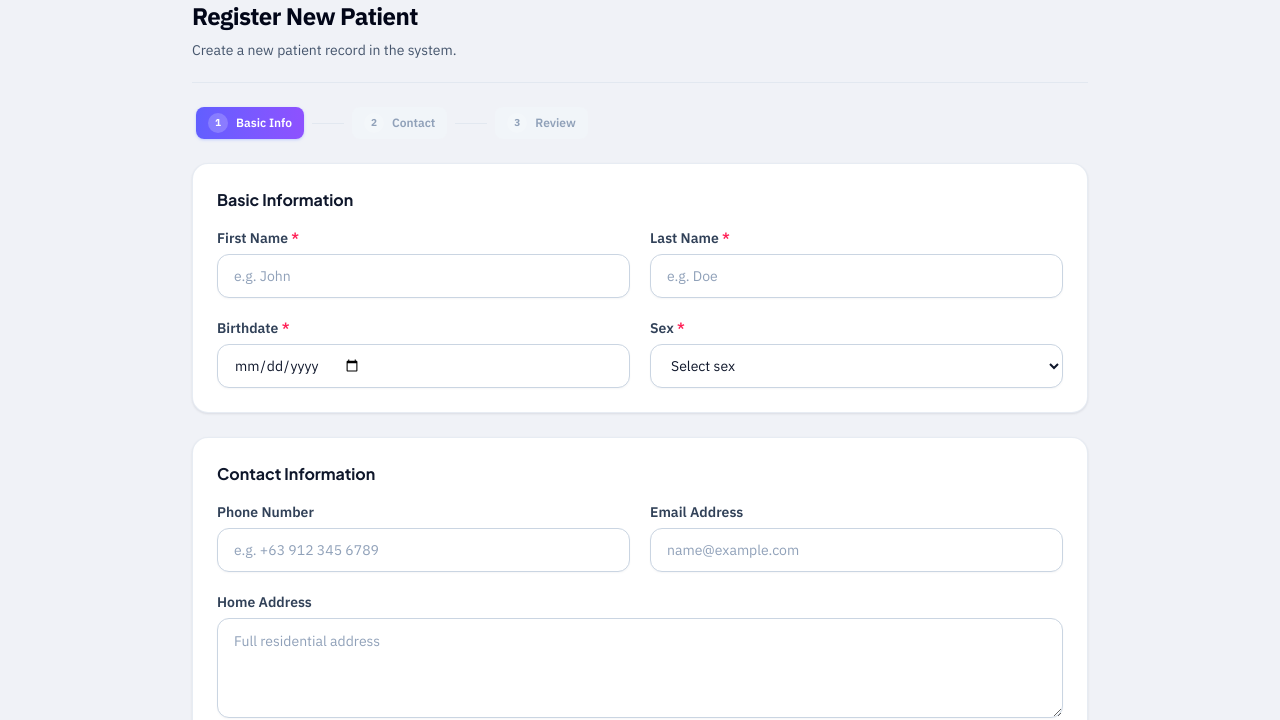
it: RegisterPatient Honesty Tests › shows error message on API failure
Type "John" into the field named "First Name" at (424, 276), box top-left (217, 254), bottom-right (630, 298)
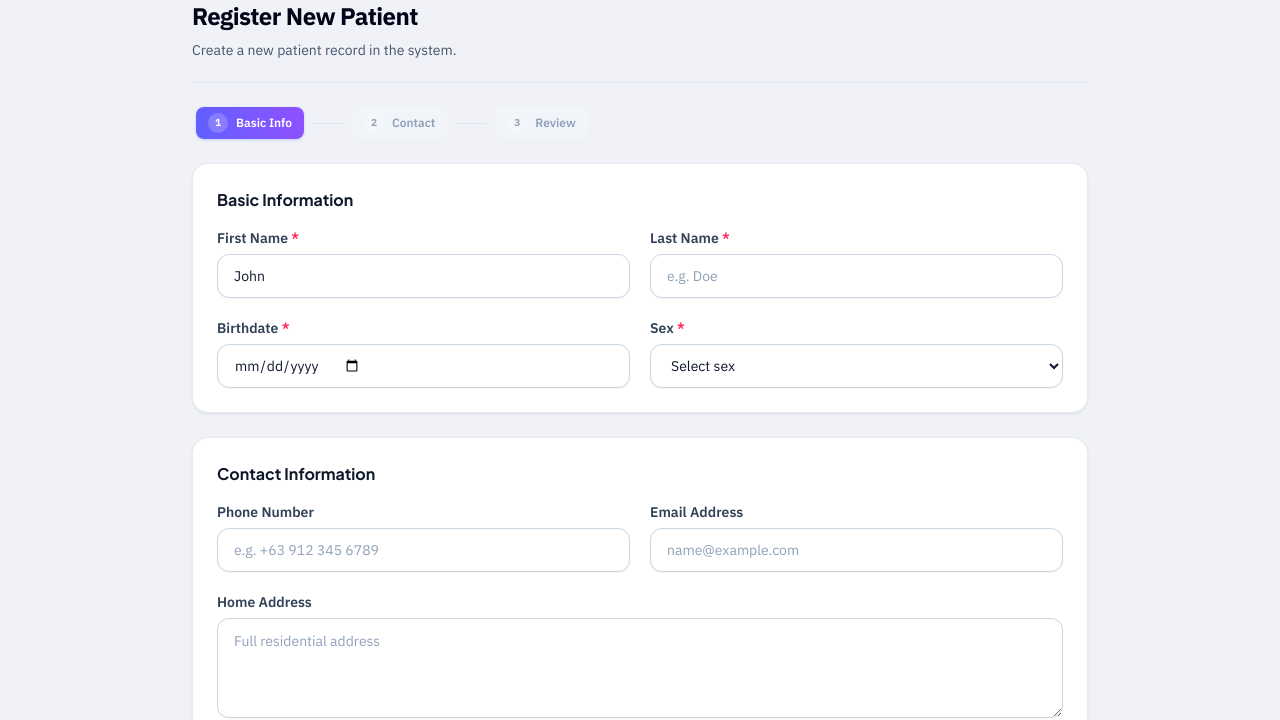
Type "Doe" into the field named "Last Name" at (856, 276), box top-left (650, 254), bottom-right (1063, 298)
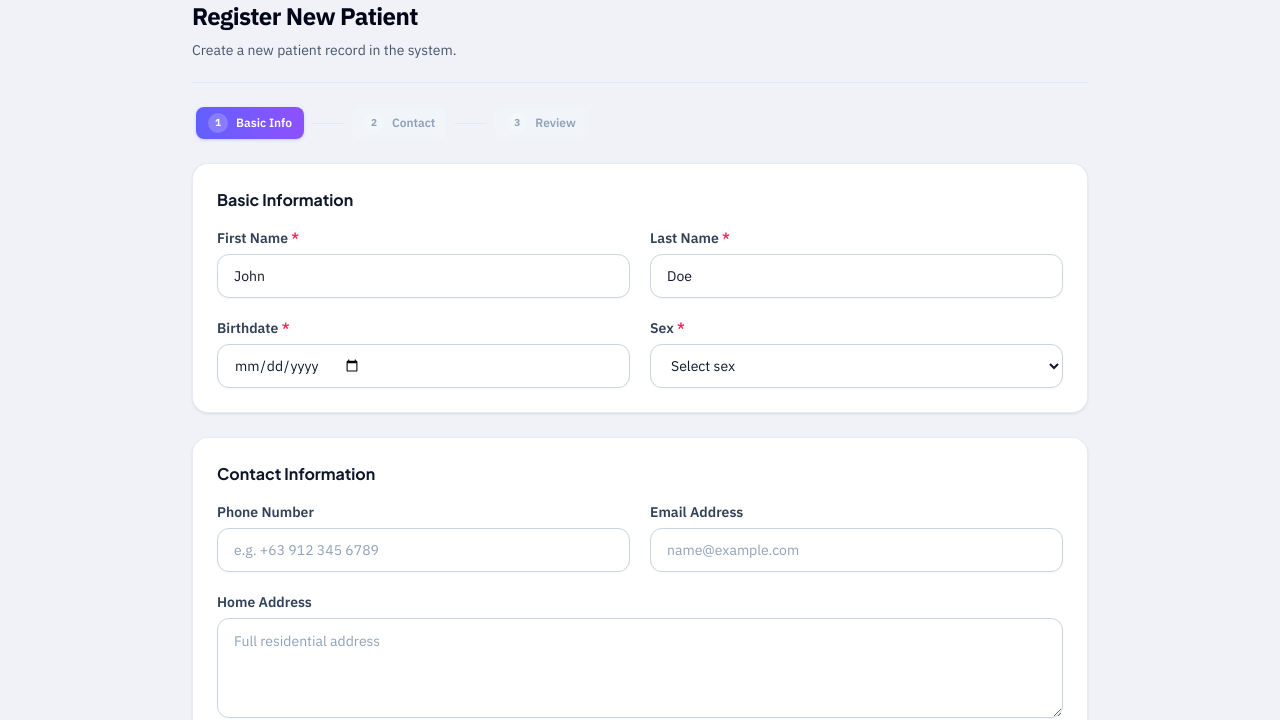
Type "1990-01-01" into the date field named "Birthdate" at (424, 366), box top-left (217, 344), bottom-right (630, 388)
(page scrolled)
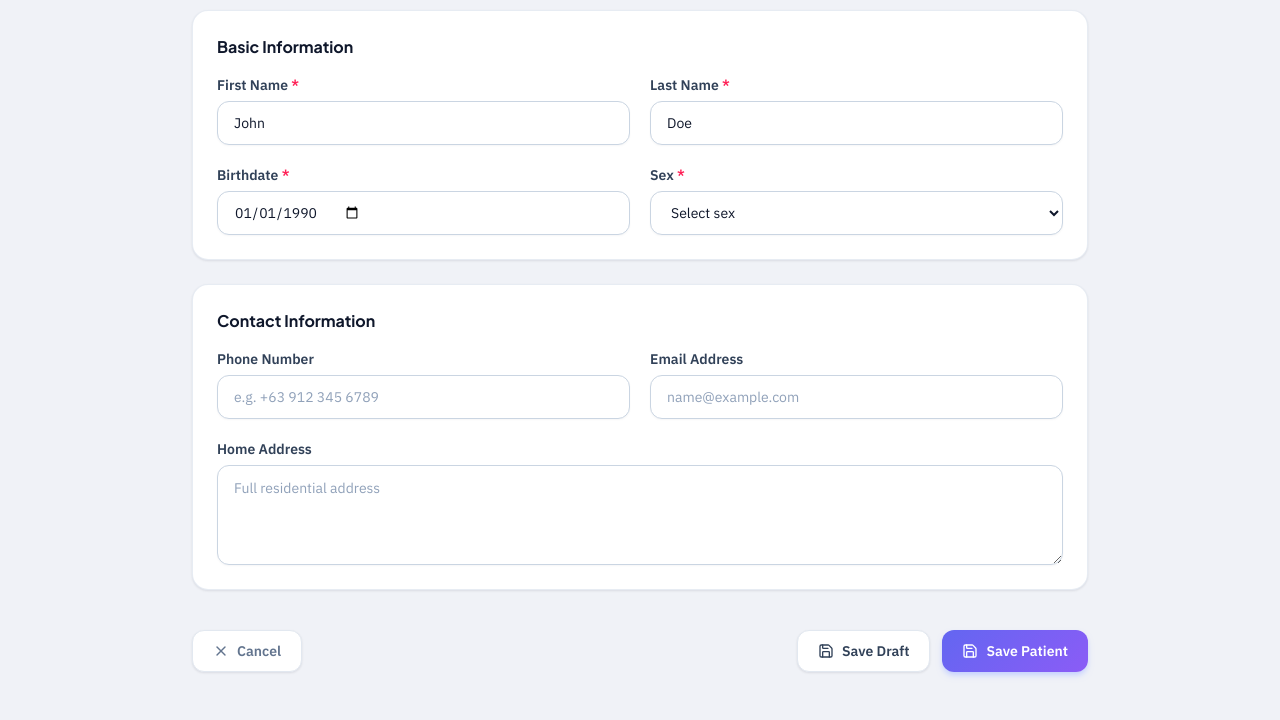
Click the button "Save Patient" at (1015, 651), box top-left (942, 630), bottom-right (1088, 672)
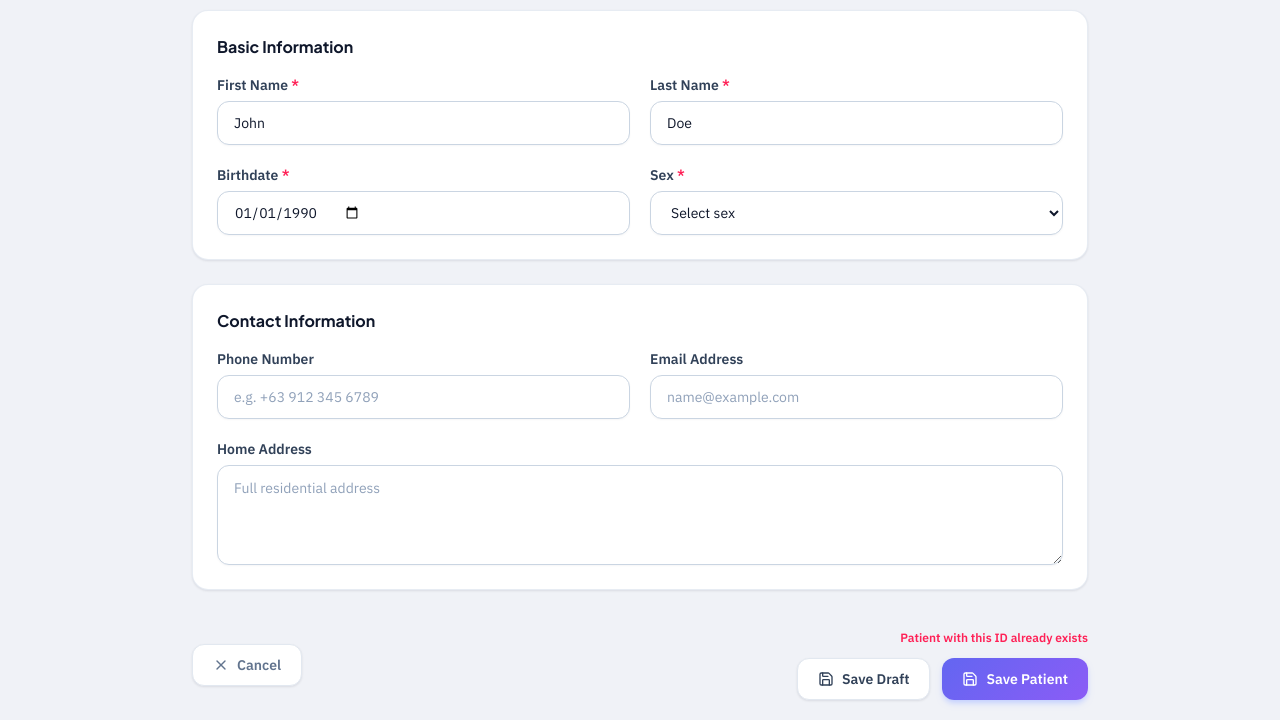
Expected: the text "Patient with this ID already exists" is shown, top-left (900, 630), bottom-right (1088, 646)
